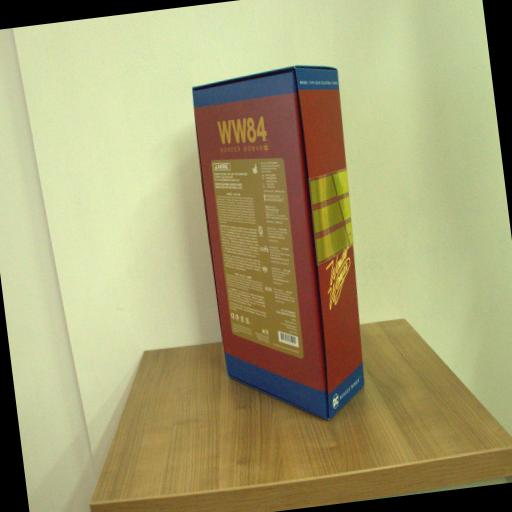WonderWoman: (187, 54, 381, 436)
